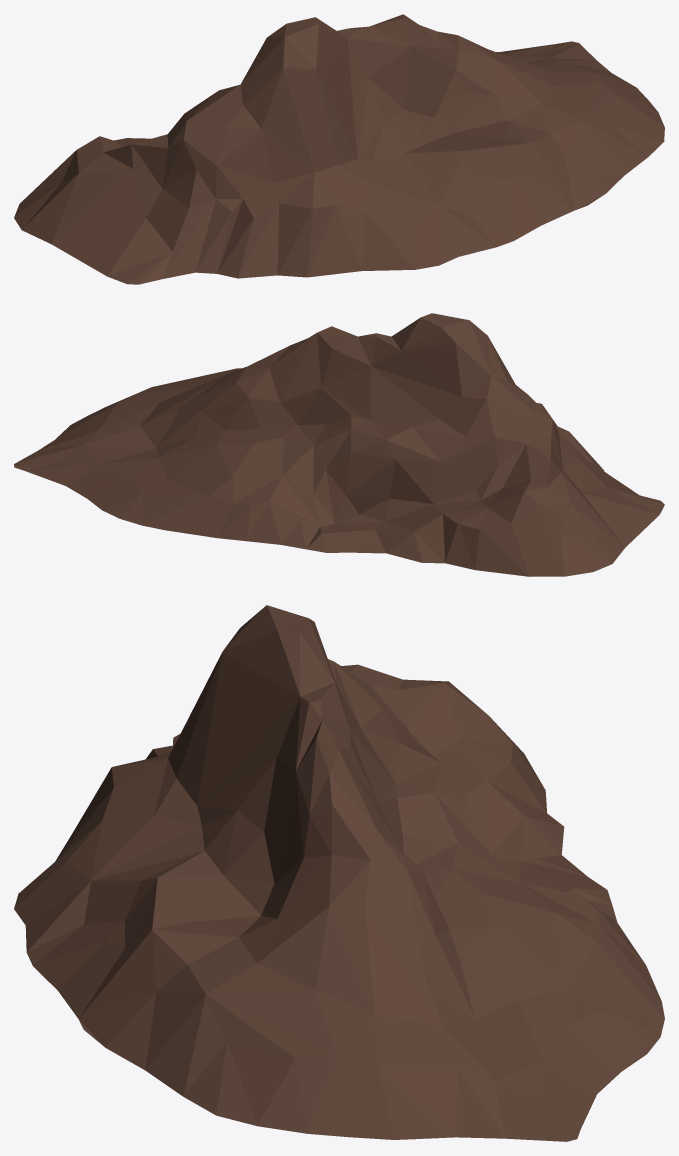
Rendered from Mountain_01.glb.
3 views of the same model, one above another, from view 1: azimuth 30°, elevation 25°; view 2: azimuth 150°, elevation 25°; view 3: azimuth 270°, elevation 25° (orthographic). The views are drawn at different scales.
Parts seen in each view (by area): view 1: Mountain_01; view 2: Mountain_01; view 3: Mountain_01.
Boxes of the visible parts, bbox=[...] form: Mountain_01: bbox=[14, 14, 664, 284]; Mountain_01: bbox=[14, 313, 664, 576]; Mountain_01: bbox=[14, 605, 664, 1141].
Size of what is drawn, in the model's own units: 15.9 by 4.51 by 10.26.
Materials: 1 (1 with a texture image).
